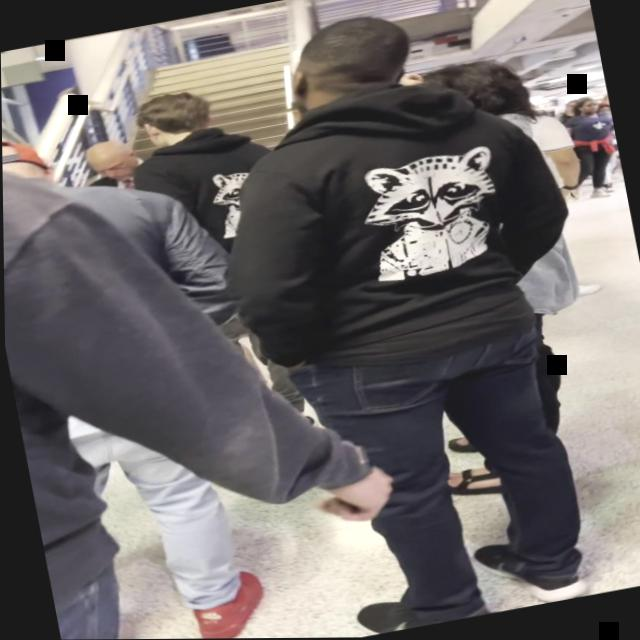NO-Mask: (87, 148, 133, 185), (577, 99, 600, 116), (591, 105, 611, 120)
